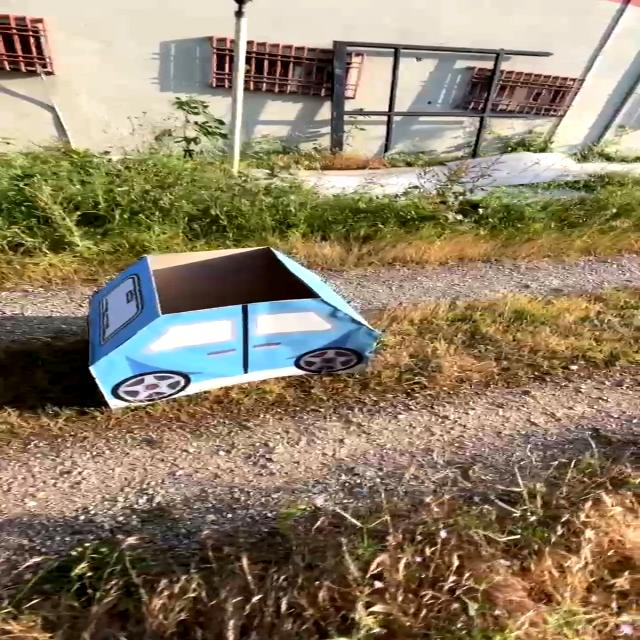blue_car: (10, 235, 421, 422)
